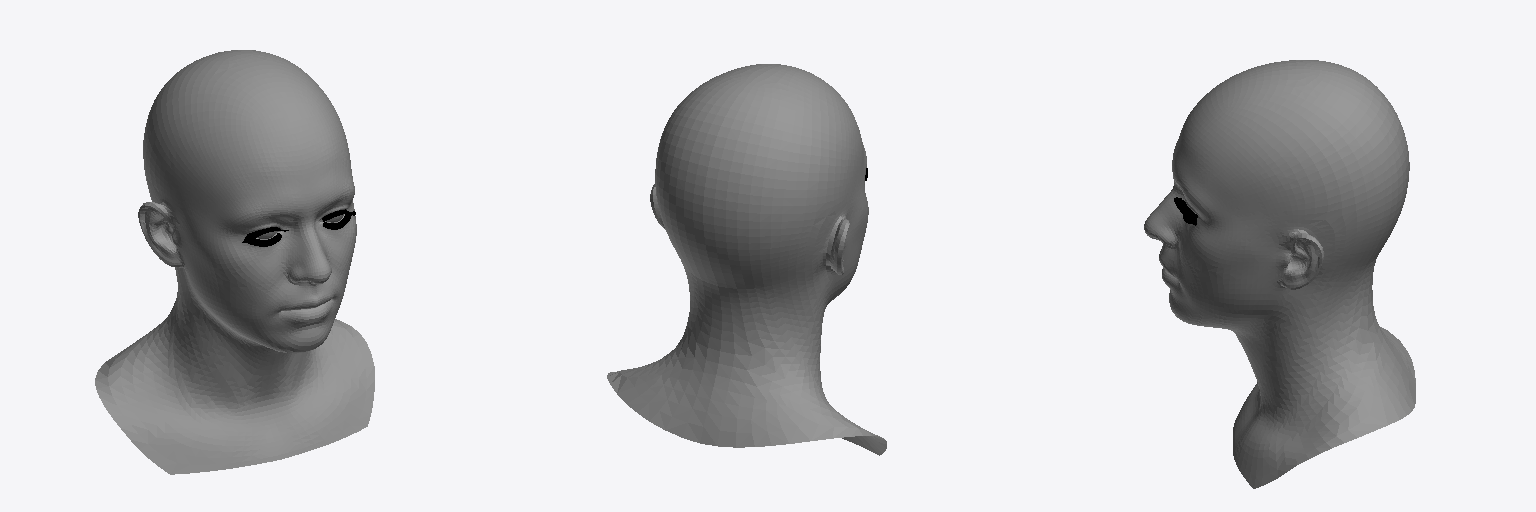
Rendered from identity096.obj.
3 views of the same model, side by side, from view 1: azimuth 30°, elevation 25°; view 2: azimuth 150°, elevation 25°; view 3: azimuth 270°, elevation 25° (orthographic).
Bounding box in the file's own units: 24.83 × 33.79 × 22.31.